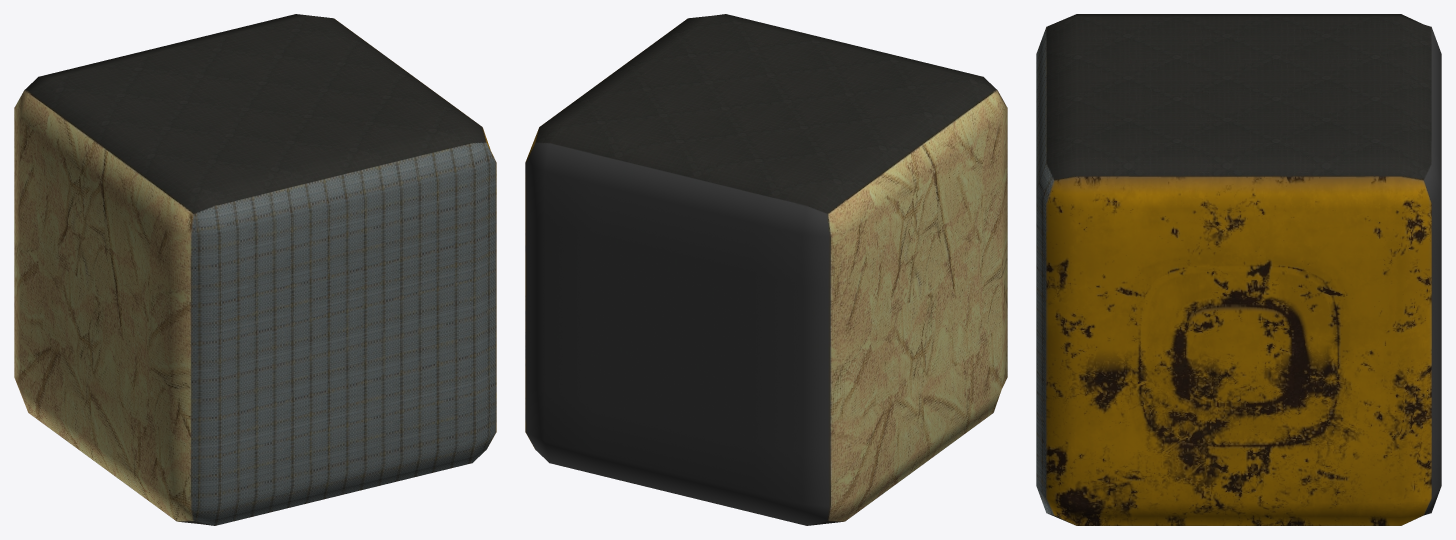
Rendered from PBR_TestBox.glb.
The picture shows the model from 3 angles, left to right: view 1: azimuth 30°, elevation 25°; view 2: azimuth 150°, elevation 25°; view 3: azimuth 270°, elevation 25°; orthographic projection. The views are drawn at different scales.
Parts seen in each view (by area): view 1: pCube1; view 2: pCube1; view 3: pCube1.
Boxes of the visible parts, x1,y1,x2,y2 form: pCube1: [14, 14, 496, 525]; pCube1: [525, 14, 1007, 525]; pCube1: [1036, 14, 1441, 525].
Size of the model in its own units: 5 by 5 by 5.
1 material, 1 textured.
